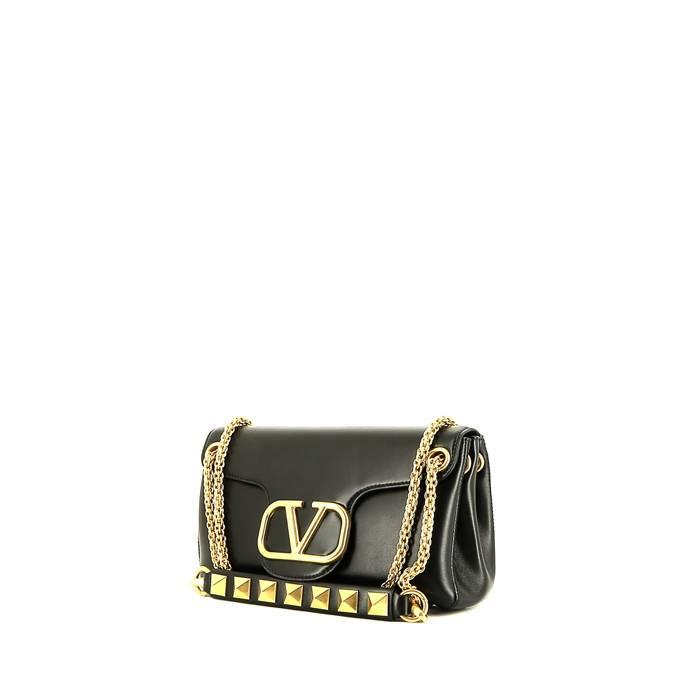VALENTINO: (257, 500, 352, 563)
